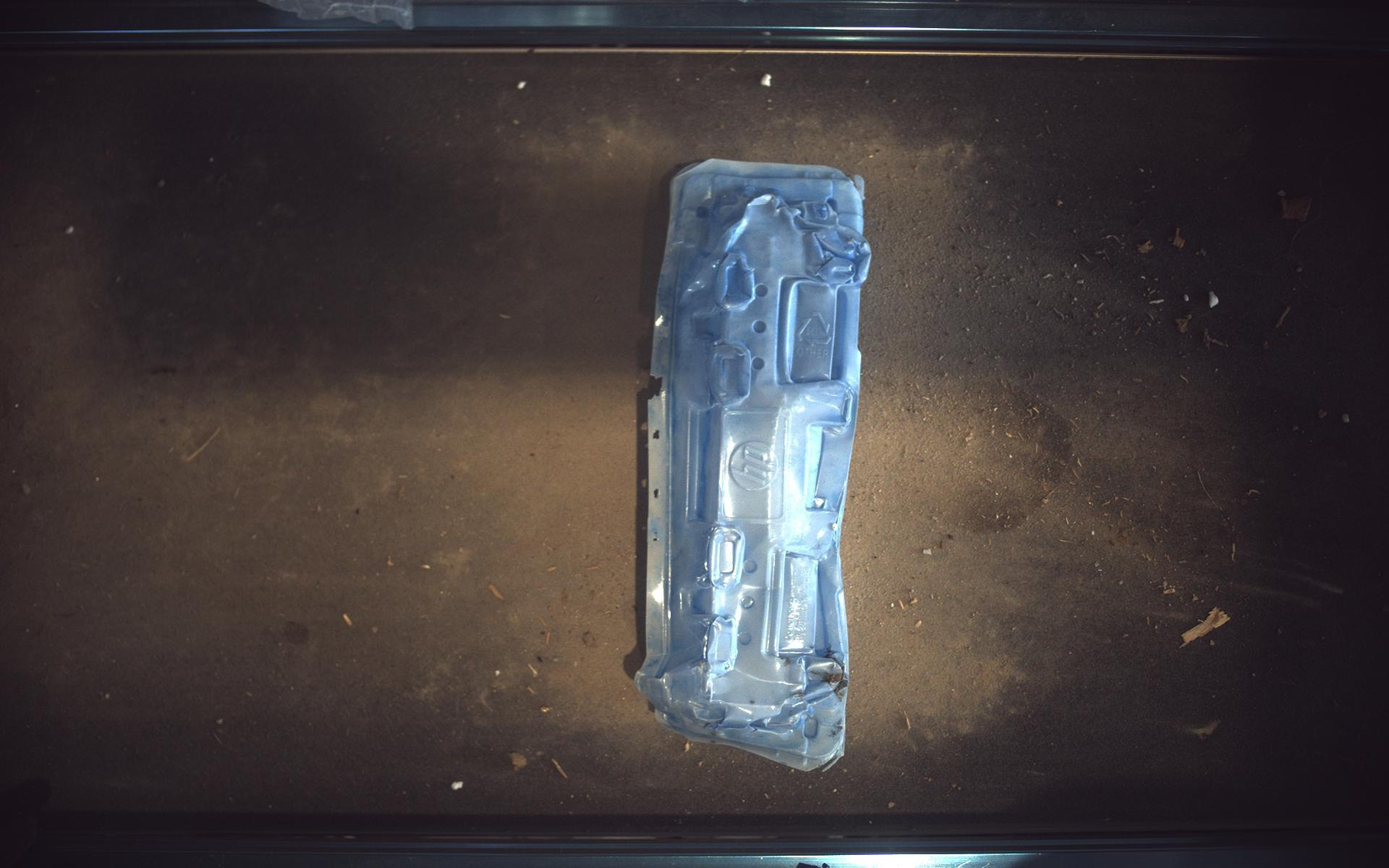general_w: (637, 158, 872, 772)
